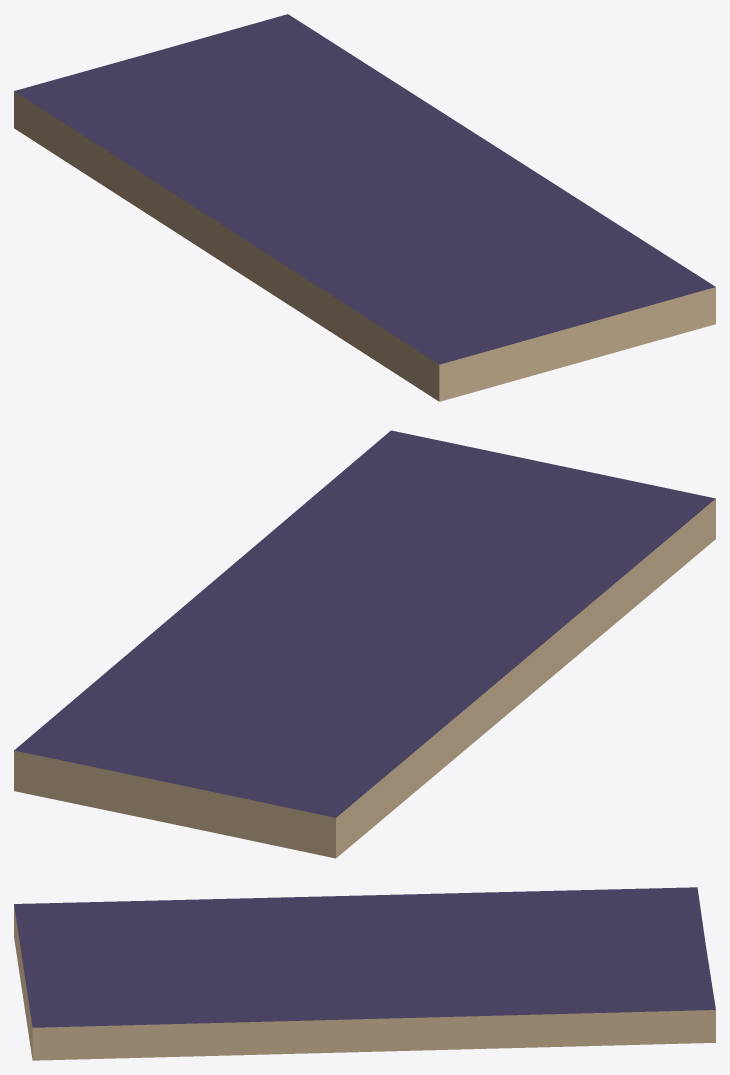
Rendered from b-070-day.glb.
3 views of the same model, one above another, from view 1: azimuth 30°, elevation 25°; view 2: azimuth 150°, elevation 25°; view 3: azimuth 270°, elevation 25° (orthographic). The views are drawn at different scales.
Parts seen in each view (by area): view 1: campus/b-070-day-0; view 2: campus/b-070-day-0; view 3: campus/b-070-day-0.
Boxes of the visible parts, bbox=[...] form: campus/b-070-day-0: bbox=[14, 14, 715, 401]; campus/b-070-day-0: bbox=[14, 430, 715, 858]; campus/b-070-day-0: bbox=[14, 887, 715, 1060].
Size of the model in its own units: 27.51 by 3 by 58.08.
